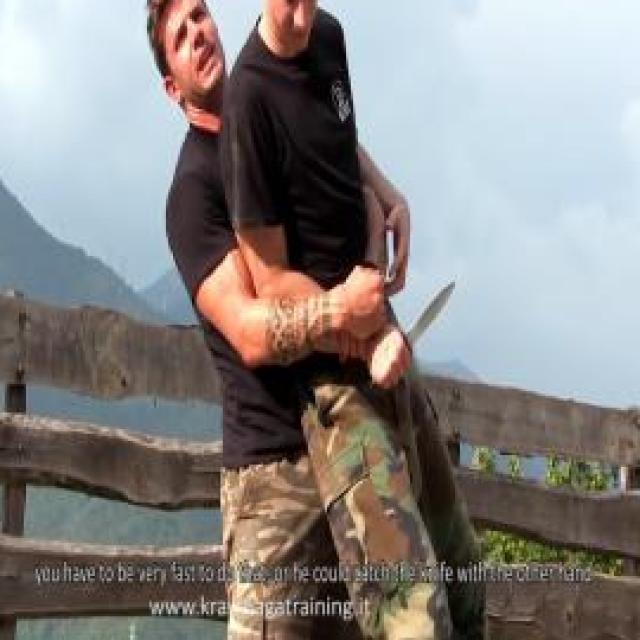knife: (368, 272, 463, 388)
